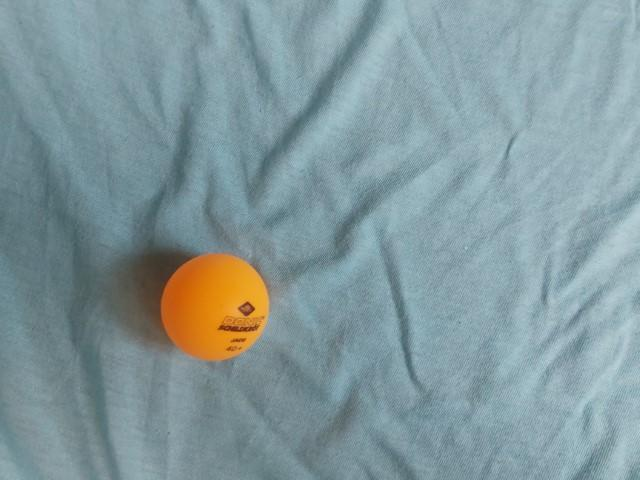oball: (153, 250, 276, 365)
